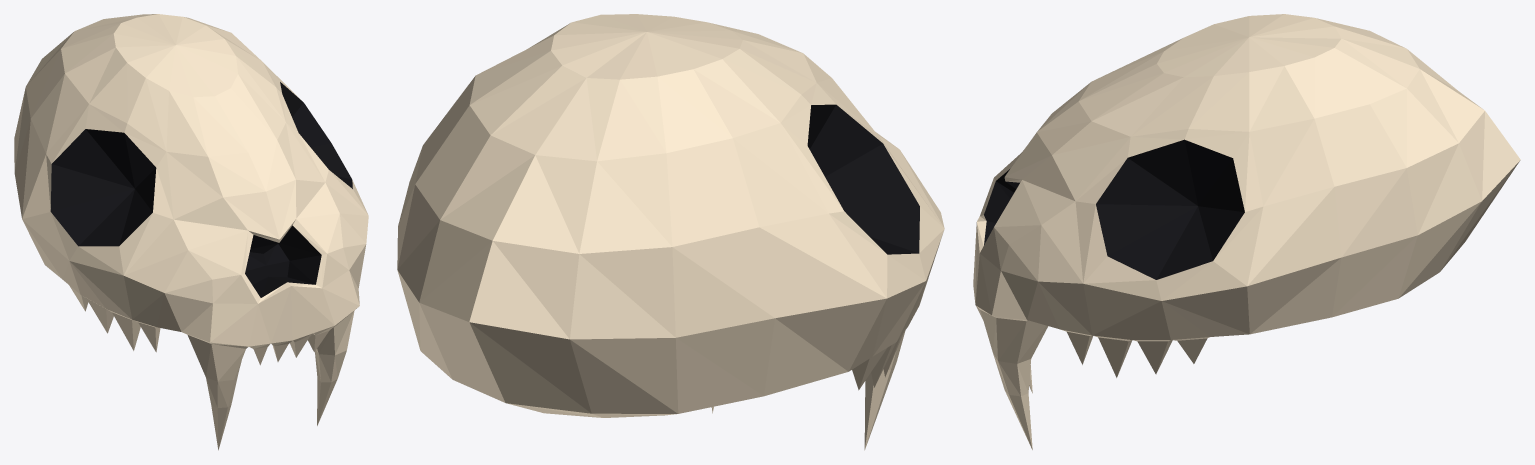
The model's file is Big_Cat_Skull.glb.
3 views of the same model, side by side, from view 1: azimuth 30°, elevation 25°; view 2: azimuth 150°, elevation 25°; view 3: azimuth 270°, elevation 25° (orthographic). The views are drawn at different scales.
Size of the model in its own units: 15.49 by 15.63 by 20.13.
Materials: 1 (1 with a texture image).
